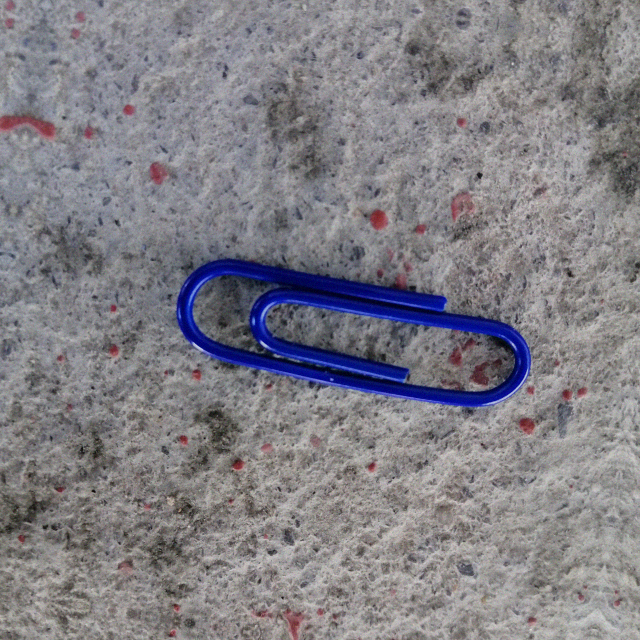pin: (175, 259, 533, 414)
